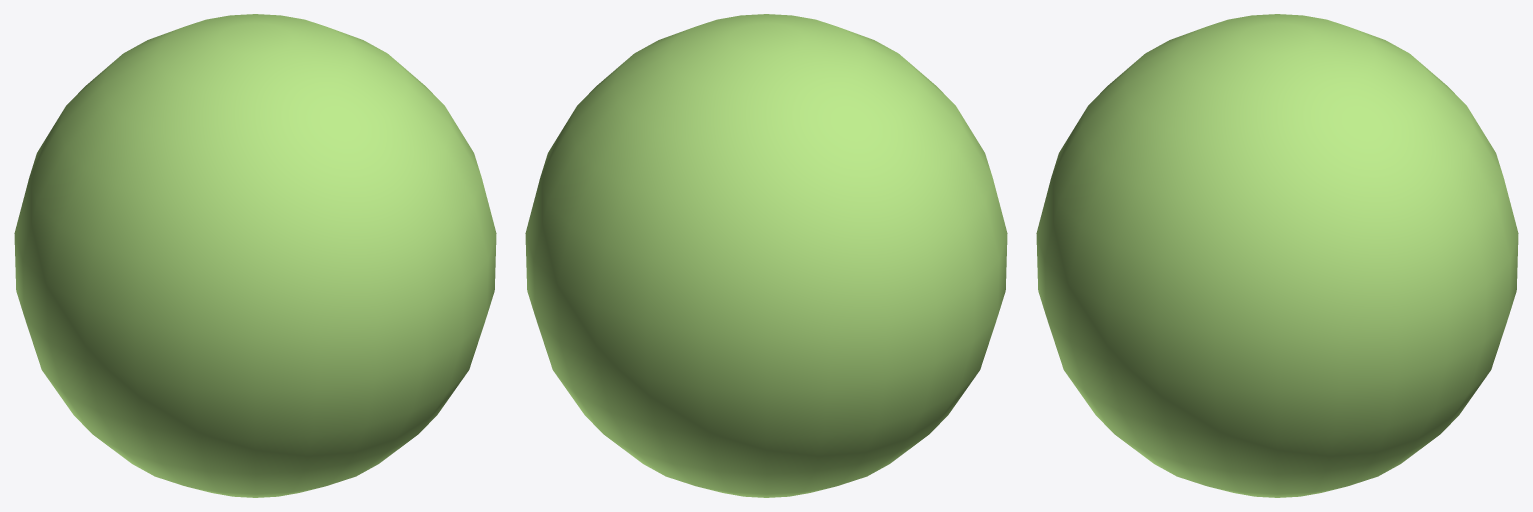
File: Ball_green_01.glb
The picture shows the model from 3 angles, left to right: view 1: azimuth 30°, elevation 25°; view 2: azimuth 150°, elevation 25°; view 3: azimuth 270°, elevation 25°; orthographic projection.
Visible parts, largest first — view 1: Mesh1 Ball_green Model; view 2: Mesh1 Ball_green Model; view 3: Mesh1 Ball_green Model.
Boxes of the visible parts, x1,y1,x2,y2 form: Mesh1 Ball_green Model: [14, 14, 496, 497]; Mesh1 Ball_green Model: [525, 14, 1007, 497]; Mesh1 Ball_green Model: [1036, 14, 1518, 497].
Bounding box in the file's own units: 0.2099 × 0.2096 × 0.2099.
